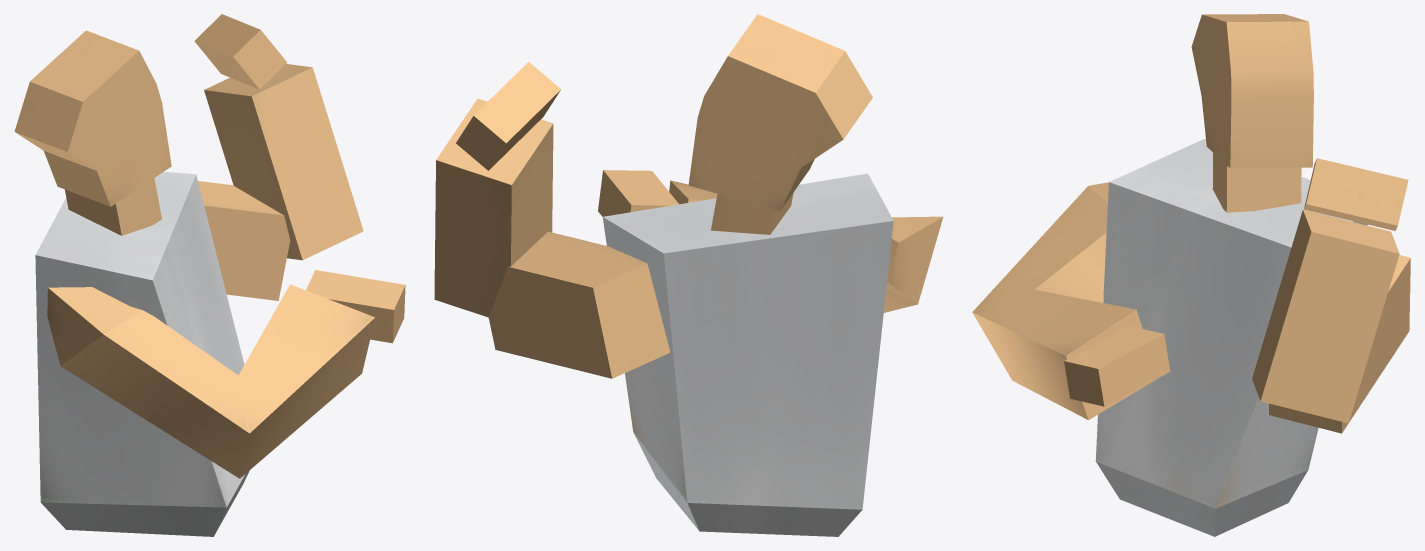
File: upperbodyleft.FBX
3 renders of one model, left to right at view 1: azimuth 30°, elevation 25°; view 2: azimuth 150°, elevation 25°; view 3: azimuth 270°, elevation 25°, orthographic. The views are drawn at different scales.
Parts seen in each view (by area): view 1: Box011, Box013, Box012, Box016, Box015, Box018, Box017, Box019; view 2: Box011, Box012, Box015, Box016, Box018, Box013, Box017, Box019; view 3: Box011, Box016, Box013, Box012, Box017, Box018, Box015, Box019.
Boxes of the visible parts, x1,y1,x2,y2 form: Box011: (35, 172, 249, 536); Box013: (47, 284, 375, 478); Box012: (14, 30, 171, 206); Box016: (204, 64, 363, 260); Box015: (198, 181, 290, 300); Box018: (194, 14, 287, 89); Box017: (306, 270, 405, 343); Box019: (65, 178, 161, 235); Box011: (602, 173, 893, 536); Box012: (688, 14, 872, 211); Box015: (488, 231, 670, 378); Box016: (434, 98, 553, 317); Box018: (456, 61, 560, 170); Box013: (669, 180, 943, 312); Box017: (598, 170, 678, 216); Box019: (711, 193, 793, 234); Box011: (1095, 138, 1367, 536); Box016: (1252, 209, 1399, 423); Box013: (972, 182, 1157, 420); Box012: (1191, 14, 1313, 168); Box017: (1064, 326, 1170, 406); Box018: (1304, 158, 1408, 230); Box015: (1269, 255, 1410, 433); Box019: (1212, 152, 1301, 212).
Bounding box in the file's own units: 33.31 × 41.3 × 34.68.
